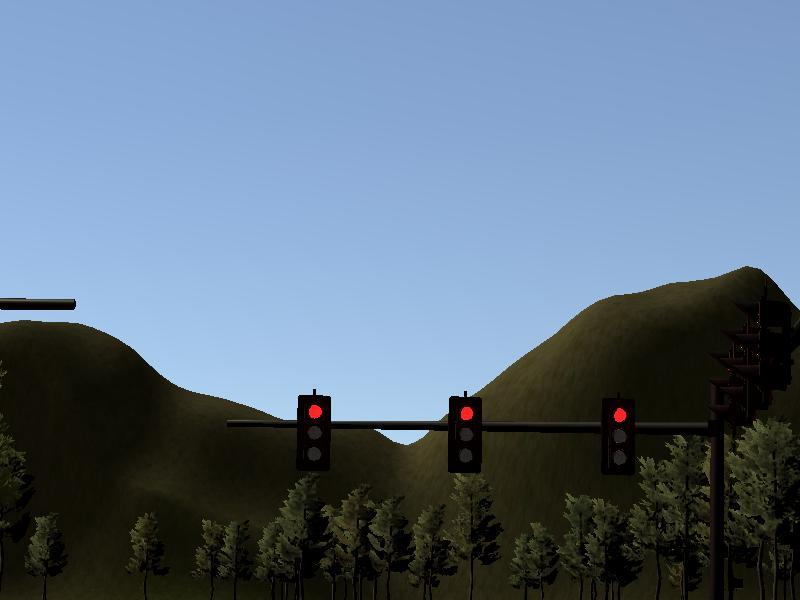Red: (603, 398, 638, 473), (299, 394, 330, 468), (453, 399, 482, 471)
